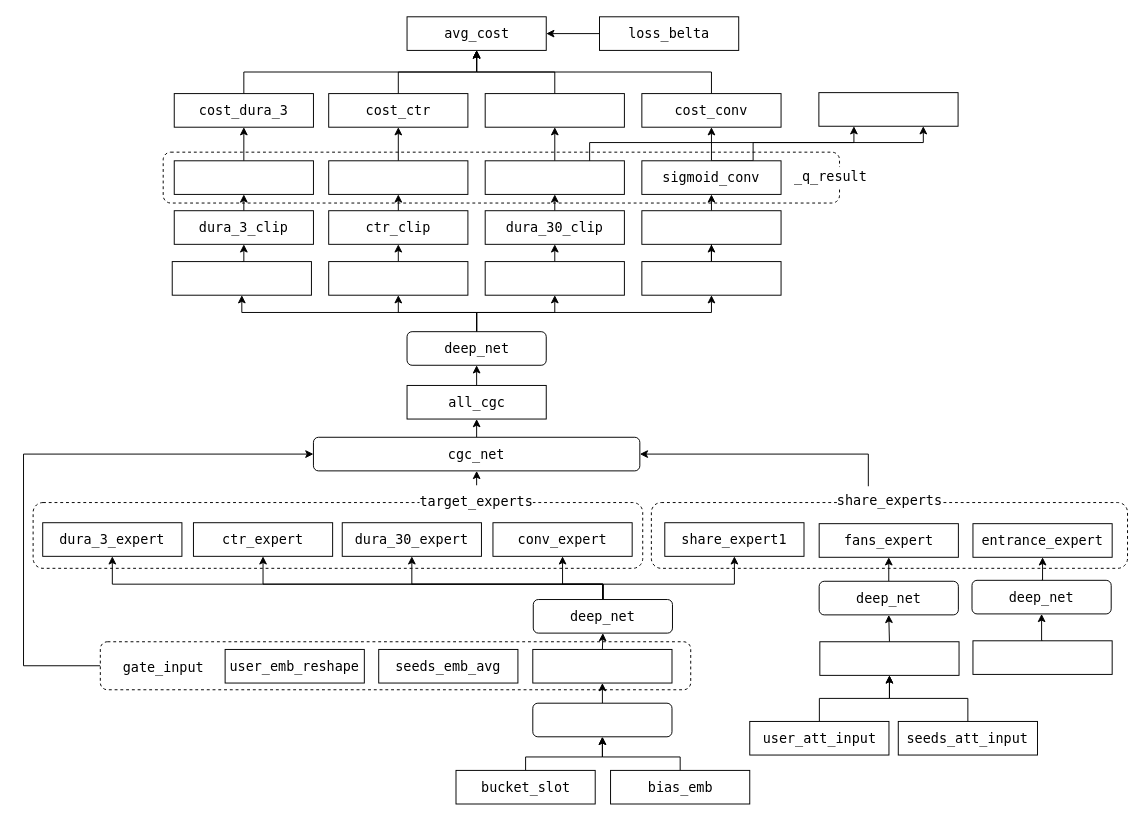
This 1144x821 diagram has some shape labels left out. The box of each missing label's shape, as (x1, y1, x2, y2) in pixels:
conv_clip: (641, 210, 781, 244)
conv_tower: (641, 261, 781, 295)
cost_dura_30: (484, 93, 624, 127)
ctr_tower: (328, 261, 468, 295)
dura_30_tower: (484, 261, 624, 295)
dura_3_tower: (171, 261, 311, 295)
entrance_input: (972, 640, 1112, 674)
expert_input: (532, 648, 672, 683)
fans_input: (819, 641, 959, 675)
final_score: (818, 92, 958, 126)
sigmoid_ctr: (328, 160, 468, 194)
sigmoid_dura_3: (173, 160, 313, 194)
sigmoid_dura_30: (484, 160, 624, 194)
spread_tower: (532, 702, 672, 737)
